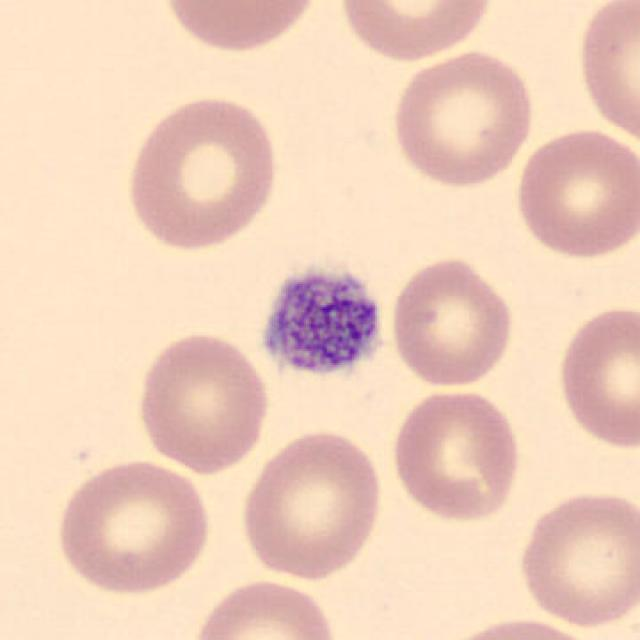Platelets: (256, 259, 389, 383)
RBC: (121, 90, 284, 256), (236, 425, 386, 583), (52, 455, 215, 598), (386, 46, 538, 190), (133, 328, 274, 476), (388, 384, 524, 526), (386, 252, 517, 390), (514, 486, 638, 630), (511, 123, 636, 263), (553, 300, 638, 451), (334, 0, 496, 63), (188, 575, 342, 640), (572, 0, 638, 146), (157, 0, 326, 55), (433, 613, 604, 640)
